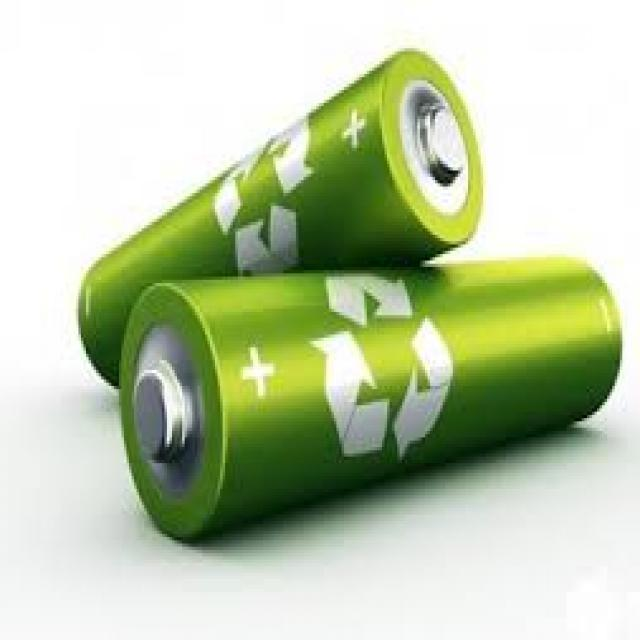battery: (120, 254, 622, 547), (74, 49, 486, 392)
